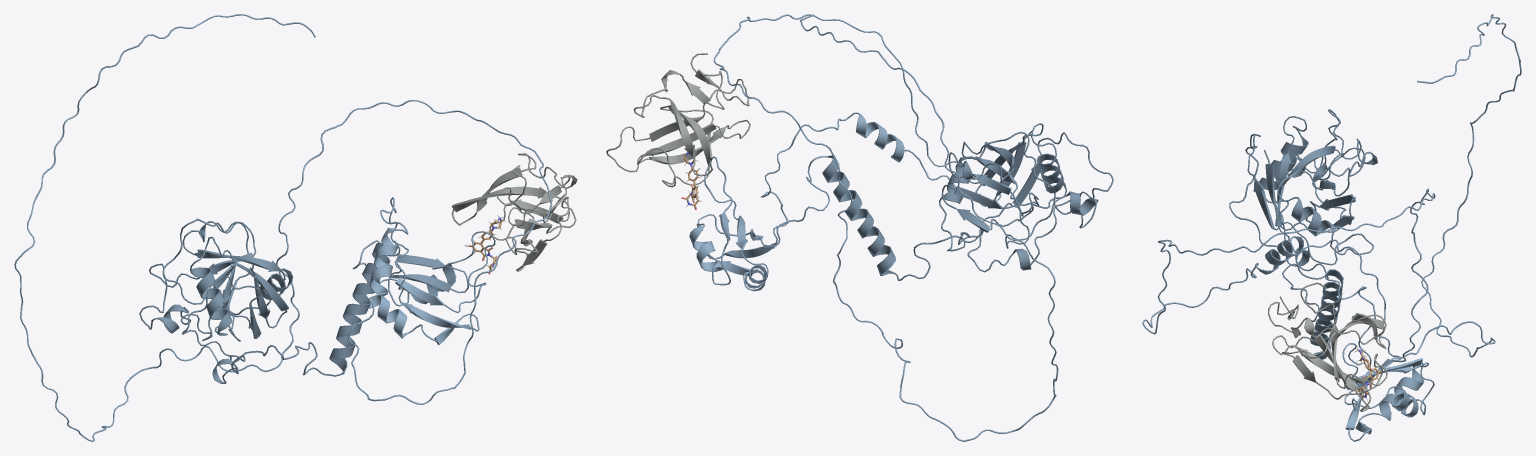
3 views of the same model, side by side, from view 1: azimuth 30°, elevation 25°; view 2: azimuth 150°, elevation 25°; view 3: azimuth 270°, elevation 25° (orthographic).
Parts seen in each view (by area): view 1: node-geom95, node-geom96; view 2: node-geom95, node-geom96; view 3: node-geom95, node-geom96.
Part boxes in pixels (x1,y1,x2,y2): node-geom95: [139, 153, 577, 383]; node-geom96: [14, 14, 552, 441]; node-geom95: [606, 53, 1113, 280]; node-geom96: [689, 14, 1058, 441]; node-geom95: [1229, 109, 1387, 411]; node-geom96: [1142, 14, 1521, 441].
Size of the model in its own units: 142 by 102 by 93.58.
